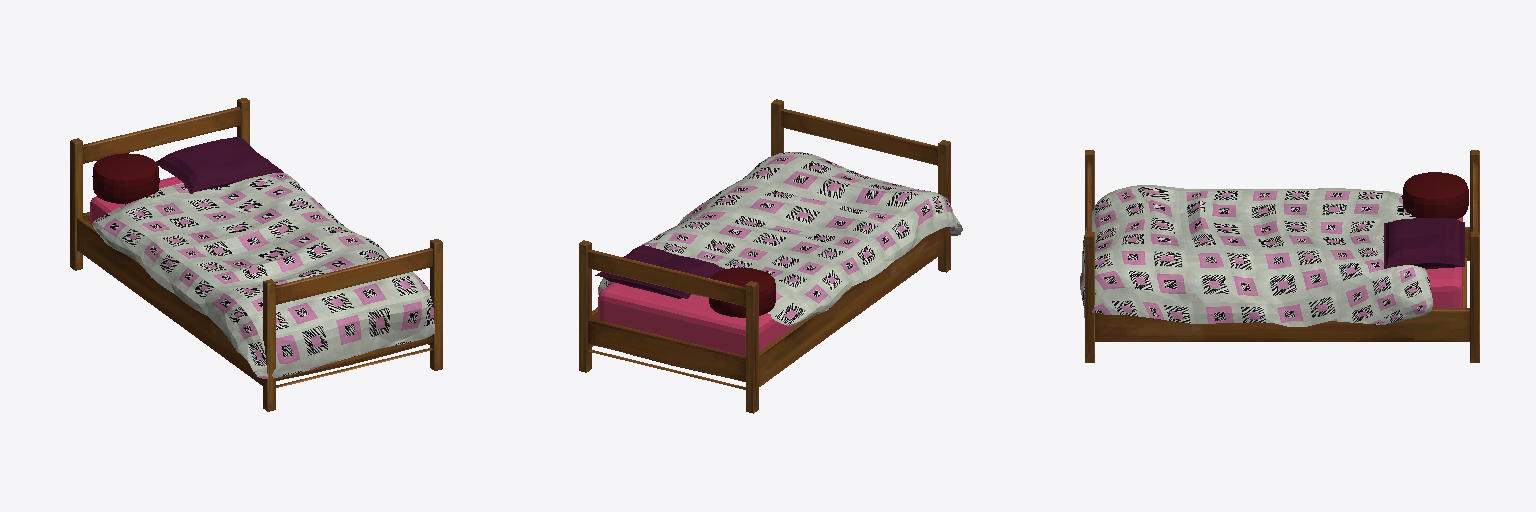
3 renders of one model, left to right at view 1: azimuth 30°, elevation 25°; view 2: azimuth 150°, elevation 25°; view 3: azimuth 270°, elevation 25°, orthographic.
Parts seen in each view (by area): view 1: Cama_Completa; view 2: Cama_Completa; view 3: Cama_Completa.
Part boxes in pixels (left/top/right/bottom): Cama_Completa: left=70, top=98, right=442, bottom=411; Cama_Completa: left=579, top=99, right=962, bottom=413; Cama_Completa: left=1080, top=150, right=1479, bottom=362.
Bounding box in the file's own units: 1.44 × 0.8433 × 2.39.
5 materials, 5 textured.